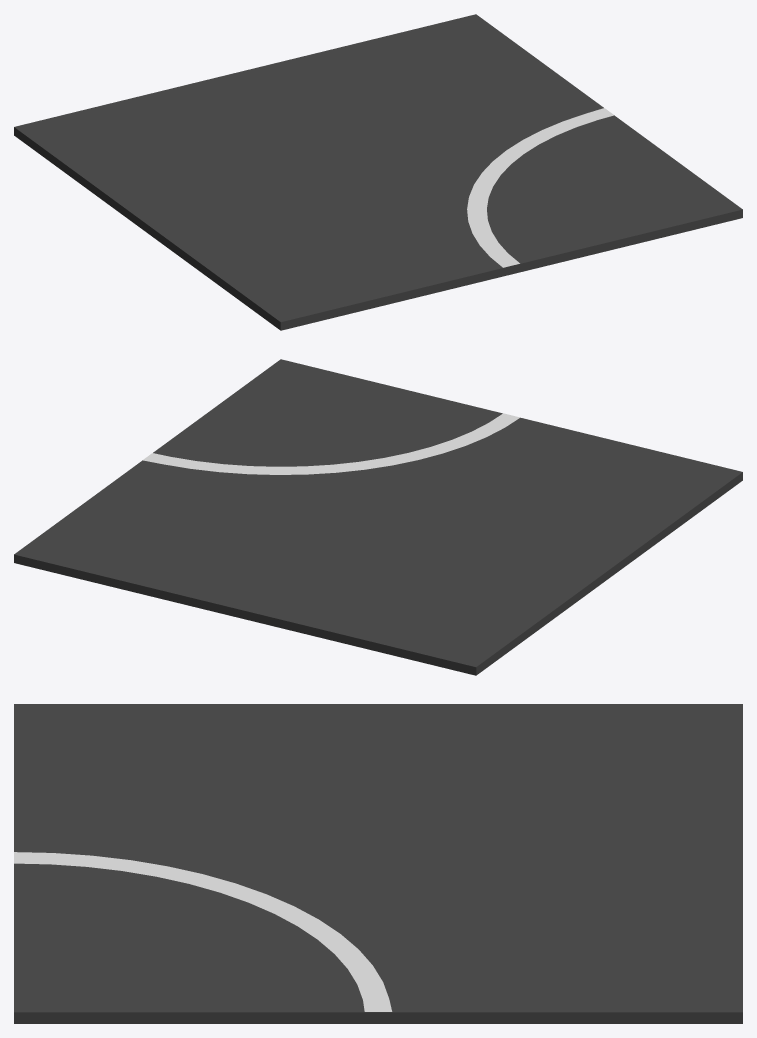
File: aft alp 2 turn.fbx
3 renders of one model, top to bottom at view 1: azimuth 30°, elevation 25°; view 2: azimuth 150°, elevation 25°; view 3: azimuth 270°, elevation 25°, orthographic. The views are drawn at different scales.
Visible parts, largest first — view 1: aft_alp_2_turn; view 2: aft_alp_2_turn; view 3: aft_alp_2_turn.
Boxes of the visible parts, left/top/right/bottom form: aft_alp_2_turn: left=14, top=14, right=742, bottom=330; aft_alp_2_turn: left=14, top=359, right=742, bottom=675; aft_alp_2_turn: left=14, top=704, right=742, bottom=1023.
Bounding box in the file's own units: 1000 × 18.01 × 1000.
